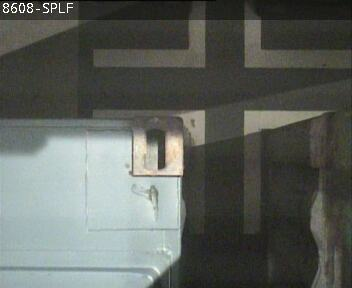groundmarker_1: (97, 108, 349, 232), (95, 1, 352, 68)
